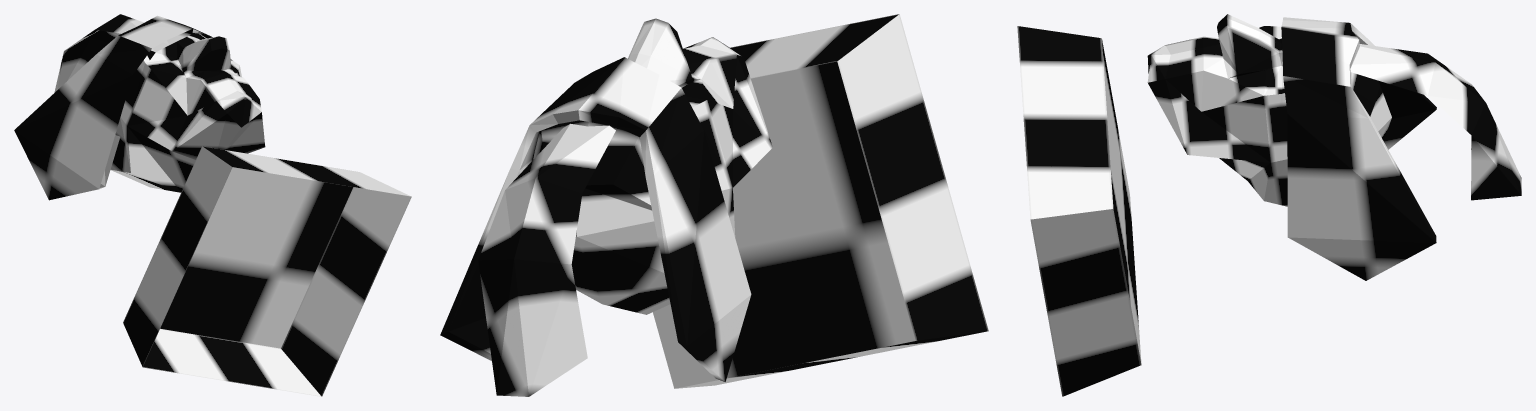
The model's file is initqu51.dae.
3 renders of one model, left to right at view 1: azimuth 30°, elevation 25°; view 2: azimuth 150°, elevation 25°; view 3: azimuth 270°, elevation 25°, orthographic. The views are drawn at different scales.
Visible parts, largest first — view 1: item; view 2: item; view 3: item.
Part boxes in pixels (x1,y1,x2,y2): item: (14,14,411,396); item: (440,14,988,396); item: (1017,14,1521,396).
Size of the model in its own units: 0.9467 by 1.38 by 1.09.
Materials: 1 (1 with a texture image).
